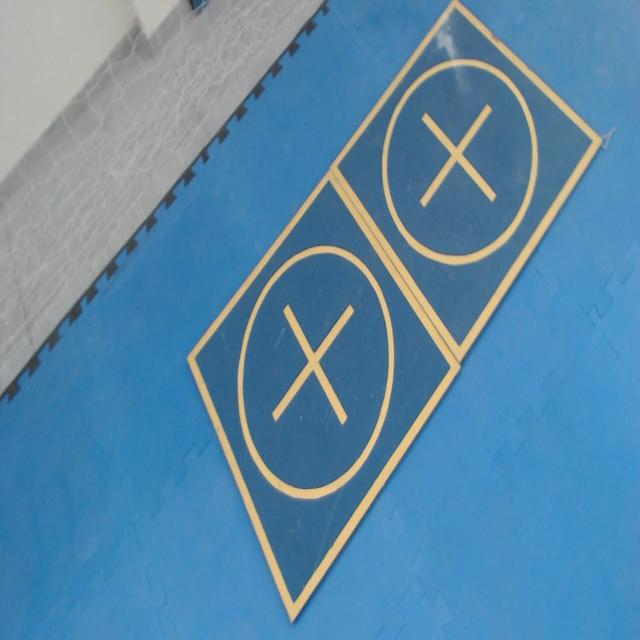base_pouso: (186, 164, 465, 626), (329, 0, 602, 368)
